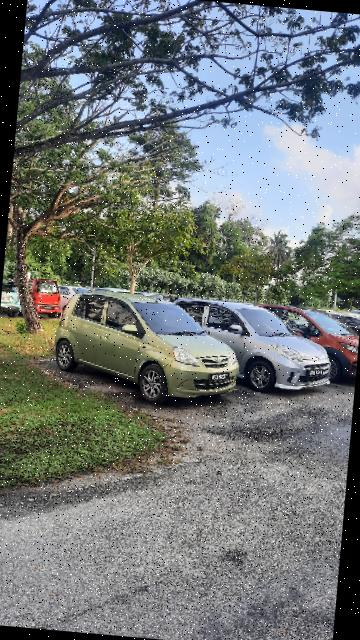License_Plate: (208, 371, 235, 385), (308, 367, 329, 381)
car: (48, 286, 247, 407), (161, 293, 341, 398)
